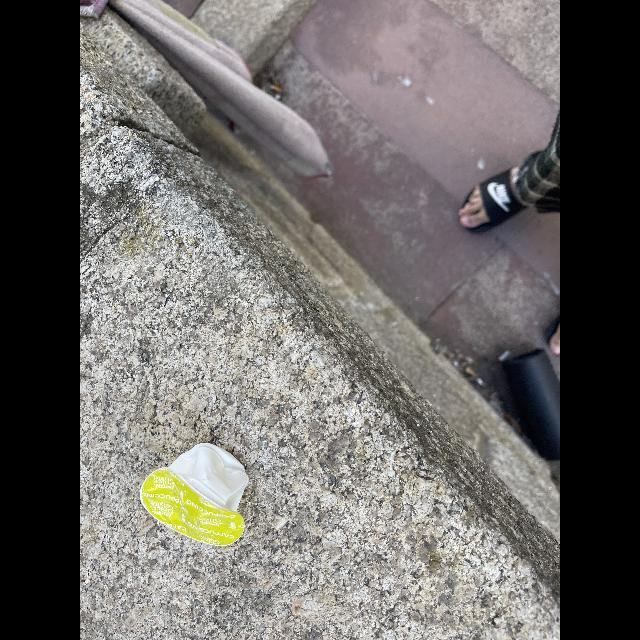damaged_capsule: (136, 437, 270, 557)
